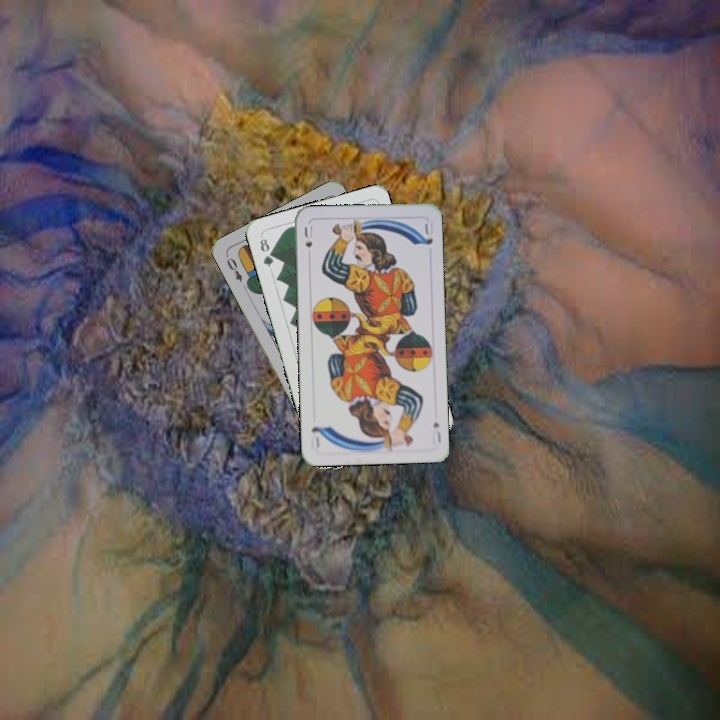EO: (223, 253, 245, 284)
G8: (256, 232, 276, 269)
SU: (300, 221, 315, 261), (428, 418, 444, 446)
